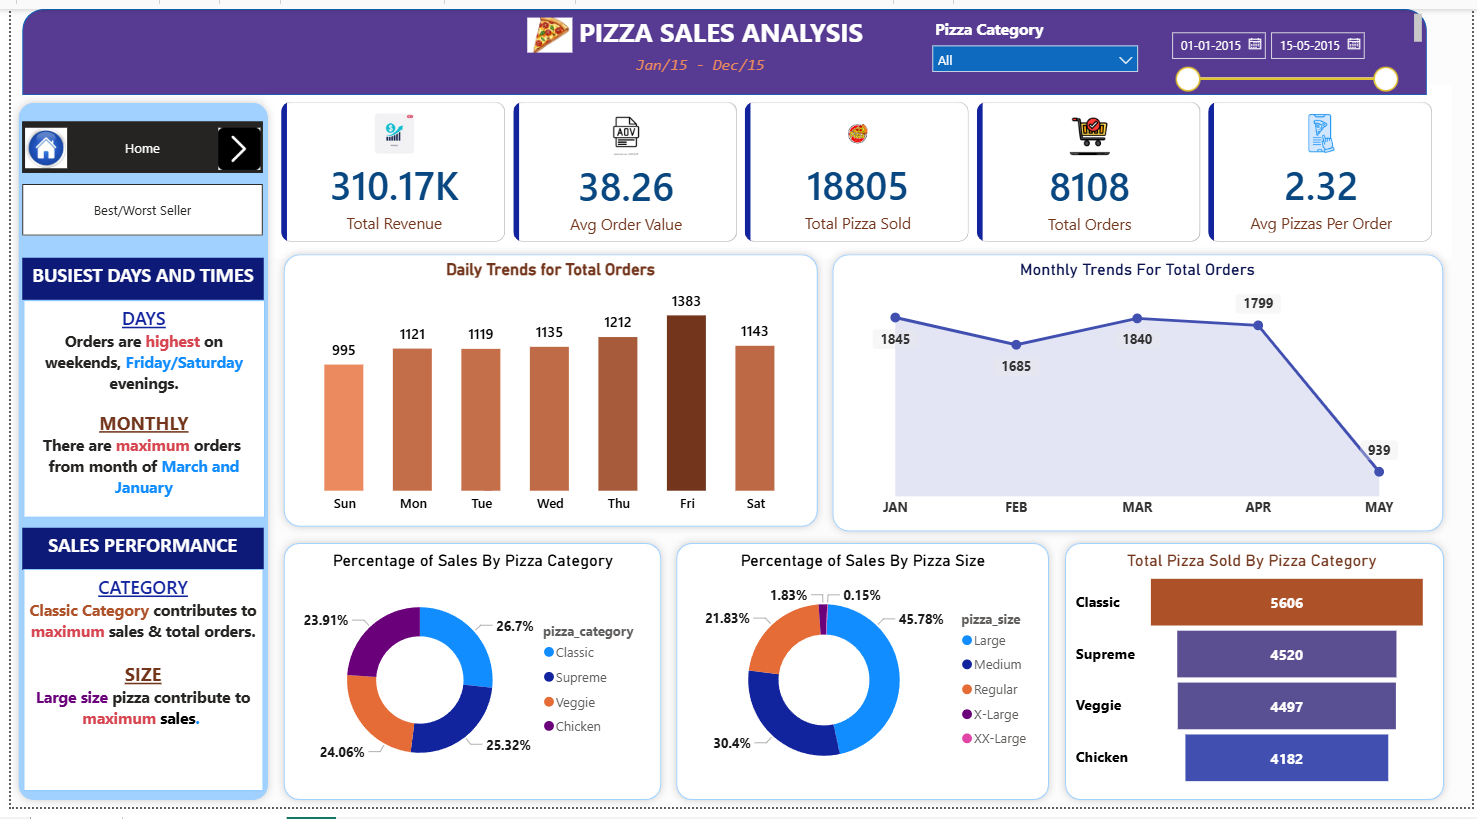

This screenshot's page, from the dashboard's own definition file:
{"tool":"powerbi","page":{"name":"Home","canvas":[1500,820],"ordinal":0},"visuals":[{"type":"cardVisual","fields":{"Data":["pizza_sales pizza.Total Revenue","pizza_sales pizza.Avg Order Value","pizza_sales pizza.Total Pizza Sold","pizza_sales pizza.Total Orders","pizza_sales pizza.Avg Pizzas Per Order"]},"box":[260.5,78.8,1218.9,178.5],"z":0},{"type":"shape","box":[11.3,0,1442.4,88.4],"z":1000},{"type":"textbox","box":[12.9,0,1440.8,41.8],"z":2000},{"type":"textbox","box":[636.8,43.4,160.8,37],"z":3000},{"type":"image","box":[530.7,0,46.6,53.1],"z":4000},{"type":"shape","box":[271.8,244.4,564.4,295.9],"z":5000},{"type":"columnChart","title":"Daily Trends for Total Orders","fields":{"Category":["pizza_sales pizza.Order Day"],"Y":["pizza_sales pizza.Total Orders"]},"box":[289.5,257.3,530.7,270.2],"z":6000},{"type":"shape","box":[836.2,244.4,643.2,300.7],"z":7000},{"type":"areaChart","title":"Monthly Trends For Total Orders","fields":{"Category":["pizza_sales pizza.Order Month"],"Y":["pizza_sales pizza.Total Orders"]},"box":[853.9,257.3,606.2,275],"z":8000},{"type":"shape","box":[271.8,540.3,403.6,279.8],"z":9000},{"type":"shape","box":[675.4,540.3,398.8,279.8],"z":10000},{"type":"shape","box":[1074.2,540.3,405.2,279.8],"z":11000},{"type":"donutChart","title":"Percentage of Sales By Pizza Category","fields":{"Category":["pizza_sales pizza.pizza_category"],"Y":["pizza_sales pizza.Total Revenue"]},"box":[289.5,556.4,371.5,247.6],"z":12000},{"type":"donutChart","title":"Percentage of Sales By Pizza Size","fields":{"Y":["pizza_sales pizza.Total Revenue"],"Category":["pizza_sales pizza.pizza_size"]},"box":[689.9,556.4,371.5,247.6],"z":13000},{"type":"shape","box":[0,88.4,271.8,731.7],"z":14000},{"type":"funnel","title":"Total Pizza Sold By Pizza Category","fields":{"Category":["pizza_sales pizza.pizza_category"],"Y":["pizza_sales pizza.Total Pizza Sold"]},"box":[1088.7,556.4,371.5,247.6],"z":15000},{"type":"textbox","box":[11.3,255.7,247.6,43.4],"z":16000},{"type":"textbox","box":[12.9,299.1,247.6,223.5],"z":17000},{"type":"textbox","box":[11.3,532.3,247.6,43.4],"z":18000},{"type":"textbox","box":[12.9,575.7,246,228.3],"z":19000},{"type":"slicer","fields":{"Values":["pizza_sales pizza.pizza_category"]},"box":[936.2,3.2,231.6,80.4],"z":20000},{"type":"slicer","fields":{"Values":["pizza_sales pizza.order_date"]},"box":[1180,0,255.7,88.4],"z":21000},{"type":"pageNavigator","box":[11.3,115.8,247.6,53.1],"z":22000},{"type":"pageNavigator","box":[11.3,180.1,247.6,53.1],"z":23000},{"type":"image","box":[210.7,122.2,48.2,43.4],"z":23001},{"type":"image","box":[12.9,122.2,46.6,41.8],"z":23002}]}

Visuals, with their boxes in screenshot pixels (x1, y1, x2, y2), scaled from the page's 1500x820 canvas onto the 1477x819 screenshot:
cardVisual - pizza_sales pizza.Total Revenue x pizza_sales pizza.Avg Order Value: {"x1": 257, "y1": 79, "x2": 1457, "y2": 257}
shape: {"x1": 11, "y1": 0, "x2": 1431, "y2": 88}
textbox: {"x1": 13, "y1": 0, "x2": 1431, "y2": 42}
textbox: {"x1": 627, "y1": 43, "x2": 785, "y2": 80}
image: {"x1": 523, "y1": 0, "x2": 568, "y2": 53}
shape: {"x1": 268, "y1": 244, "x2": 823, "y2": 540}
"Daily Trends for Total Orders" columnChart: {"x1": 285, "y1": 257, "x2": 808, "y2": 527}
shape: {"x1": 823, "y1": 244, "x2": 1457, "y2": 544}
"Monthly Trends For Total Orders" areaChart: {"x1": 841, "y1": 257, "x2": 1438, "y2": 532}
shape: {"x1": 268, "y1": 540, "x2": 665, "y2": 818}
shape: {"x1": 665, "y1": 540, "x2": 1058, "y2": 818}
shape: {"x1": 1058, "y1": 540, "x2": 1457, "y2": 818}
"Percentage of Sales By Pizza Category" donutChart: {"x1": 285, "y1": 556, "x2": 651, "y2": 803}
"Percentage of Sales By Pizza Size" donutChart: {"x1": 679, "y1": 556, "x2": 1045, "y2": 803}
shape: {"x1": 0, "y1": 88, "x2": 268, "y2": 818}
"Total Pizza Sold By Pizza Category" funnel: {"x1": 1072, "y1": 556, "x2": 1438, "y2": 803}
textbox: {"x1": 11, "y1": 255, "x2": 255, "y2": 299}
textbox: {"x1": 13, "y1": 299, "x2": 257, "y2": 522}
textbox: {"x1": 11, "y1": 532, "x2": 255, "y2": 575}
textbox: {"x1": 13, "y1": 575, "x2": 255, "y2": 803}
slicer - pizza_sales pizza.pizza_category: {"x1": 922, "y1": 3, "x2": 1150, "y2": 83}
slicer - pizza_sales pizza.order_date: {"x1": 1162, "y1": 0, "x2": 1414, "y2": 88}
pageNavigator: {"x1": 11, "y1": 116, "x2": 255, "y2": 169}
pageNavigator: {"x1": 11, "y1": 180, "x2": 255, "y2": 233}
image: {"x1": 207, "y1": 122, "x2": 255, "y2": 165}
image: {"x1": 13, "y1": 122, "x2": 59, "y2": 164}
